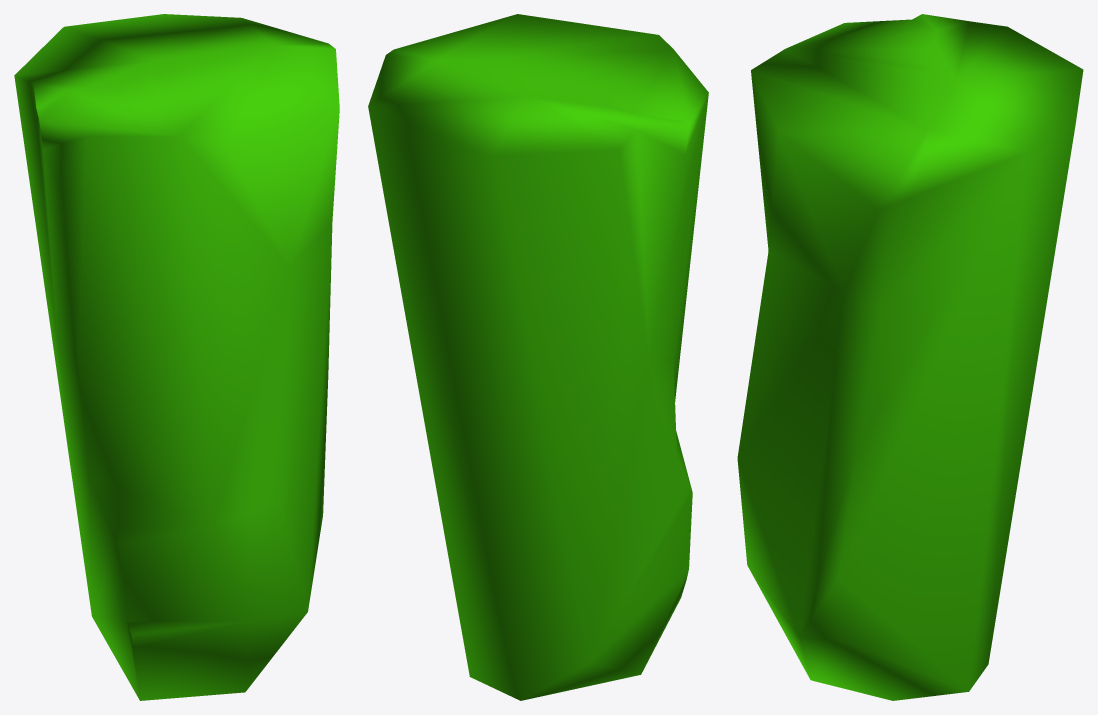
File: Midorin_leg_l.obj
3 renders of one model, left to right at view 1: azimuth 30°, elevation 25°; view 2: azimuth 150°, elevation 25°; view 3: azimuth 270°, elevation 25°, orthographic.
Visible parts, largest first — view 1: GREEN_LEG_L; view 2: GREEN_LEG_L; view 3: GREEN_LEG_L.
Part boxes in pixels (<box>): GREEN_LEG_L: <box>14,14,339,700</box>; GREEN_LEG_L: <box>368,14,708,700</box>; GREEN_LEG_L: <box>737,14,1083,700</box>.
Bounding box in the file's own units: 0.567 × 1.09 × 0.5683.
Materials: 1 (1 with a texture image).
